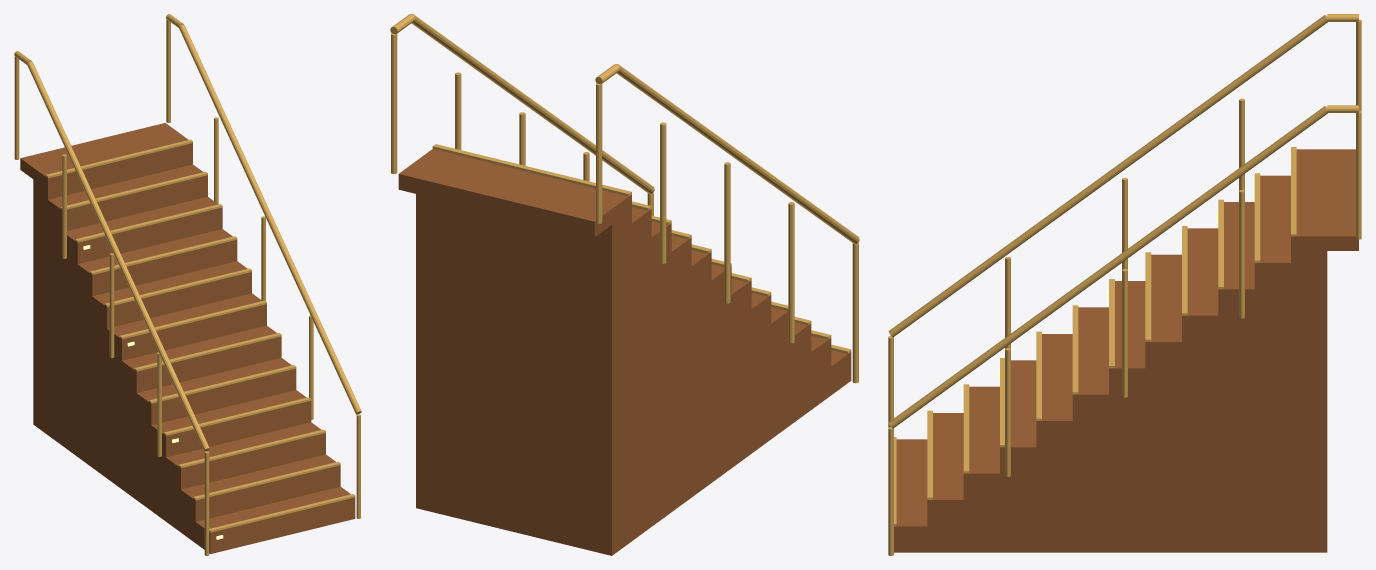
File: stairs.glb
The picture shows the model from 3 angles, left to right: view 1: azimuth 30°, elevation 25°; view 2: azimuth 150°, elevation 25°; view 3: azimuth 270°, elevation 25°; orthographic projection. The views are drawn at different scales.
Visible parts, largest first — view 1: Premium_real_tread.011, Premium_real_tread.010, Premium_real_tread.009, Premium_real_tread.008, Premium_real_tread.007, Premium_real_tread.006, Premium_real_tread.005, Premium_real_tread.004, Premium_real_tread.003, Premium_real_tread.002, Premium_real_tread.001, Premium_real_tread (+24 smaller); view 2: Premium_real_tread.011, Premium_stair_landing, Premium_real_tread.010, Premium_real_tread.009, Premium_real_tread.008, Premium_real_tread.007, Premium_real_tread.006, Premium_real_tread.005, Premium_real_tread.004, Premium_stair_rail.005, Premium_stair_rail.012, Premium_real_tread.003 (+10 smaller); view 3: Premium_real_tread.011, Premium_real_tread.010, Premium_real_tread.009, Premium_real_tread.008, Premium_real_tread.007, Premium_real_tread.006, Premium_real_tread.005, Premium_real_tread.004, Premium_real_tread.003, Premium_real_tread.002, Premium_real_tread.001, Premium_stair_rail.012 (+12 smaller).
Boxes of the visible parts, bbox=[...] form: Premium_real_tread.011: bbox=[33, 132, 192, 434]; Premium_real_tread.010: bbox=[48, 164, 207, 445]; Premium_real_tread.009: bbox=[62, 196, 222, 456]; Premium_real_tread.008: bbox=[77, 229, 237, 467]; Premium_real_tread.007: bbox=[92, 261, 251, 477]; Premium_real_tread.006: bbox=[107, 293, 266, 488]; Premium_real_tread.005: bbox=[122, 325, 281, 499]; Premium_real_tread.004: bbox=[136, 358, 296, 510]; Premium_real_tread.003: bbox=[151, 390, 311, 521]; Premium_real_tread.002: bbox=[166, 422, 325, 532]; Premium_real_tread.001: bbox=[181, 454, 340, 542]; Premium_real_tread: bbox=[195, 486, 355, 553]; Premium_real_tread.011: bbox=[416, 149, 631, 555]; Premium_stair_landing: bbox=[398, 161, 611, 237]; Premium_real_tread.010: bbox=[632, 207, 651, 540]; Premium_real_tread.009: bbox=[651, 221, 671, 526]; Premium_real_tread.008: bbox=[671, 235, 691, 511]; Premium_real_tread.007: bbox=[691, 250, 711, 497]; Premium_real_tread.006: bbox=[711, 264, 731, 482]; Premium_real_tread.005: bbox=[731, 278, 751, 467]; Premium_real_tread.004: bbox=[751, 293, 771, 453]; Premium_stair_rail.005: bbox=[616, 64, 859, 243]; Premium_stair_rail.012: bbox=[411, 14, 654, 193]; Premium_real_tread.003: bbox=[771, 307, 791, 438]; Premium_real_tread.011: bbox=[1291, 149, 1327, 552]; Premium_real_tread.010: bbox=[1254, 175, 1290, 552]; Premium_real_tread.009: bbox=[1218, 202, 1254, 552]; Premium_real_tread.008: bbox=[1182, 228, 1218, 552]; Premium_real_tread.007: bbox=[1145, 254, 1181, 552]; Premium_real_tread.006: bbox=[1109, 281, 1145, 552]; Premium_real_tread.005: bbox=[1072, 307, 1108, 552]; Premium_real_tread.004: bbox=[1036, 334, 1072, 552]; Premium_real_tread.003: bbox=[1000, 360, 1036, 552]; Premium_real_tread.002: bbox=[963, 386, 999, 552]; Premium_real_tread.001: bbox=[927, 413, 963, 552]; Premium_stair_rail.012: bbox=[888, 106, 1327, 428].
Size of the model in its own units: 1.41 by 3.12 by 2.99.
